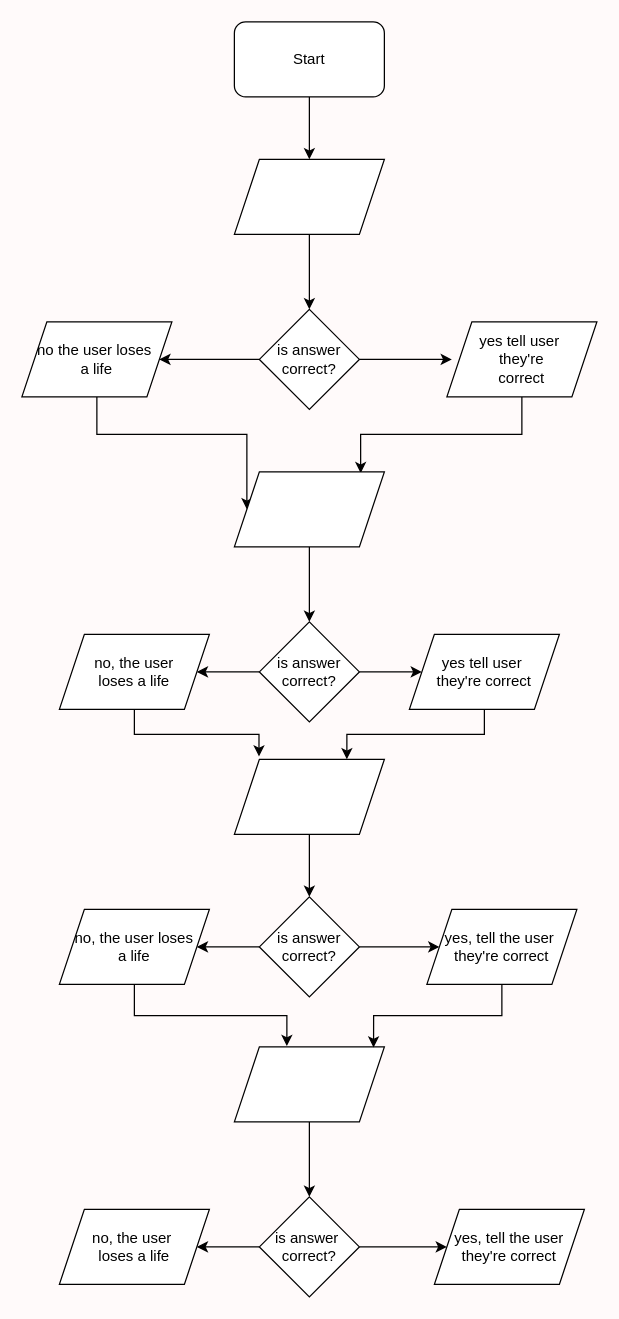
The diagram is 619 pixels wide and 1319 high, and some of its shapes have lost their labels. The centre of each missing label's shape, as x and y in pixels:
"first question" belongs at (x=308, y=196).
"fourth question" belongs at (x=308, y=1084).
"second question" belongs at (x=308, y=509).
"third question" belongs at (x=308, y=796).
